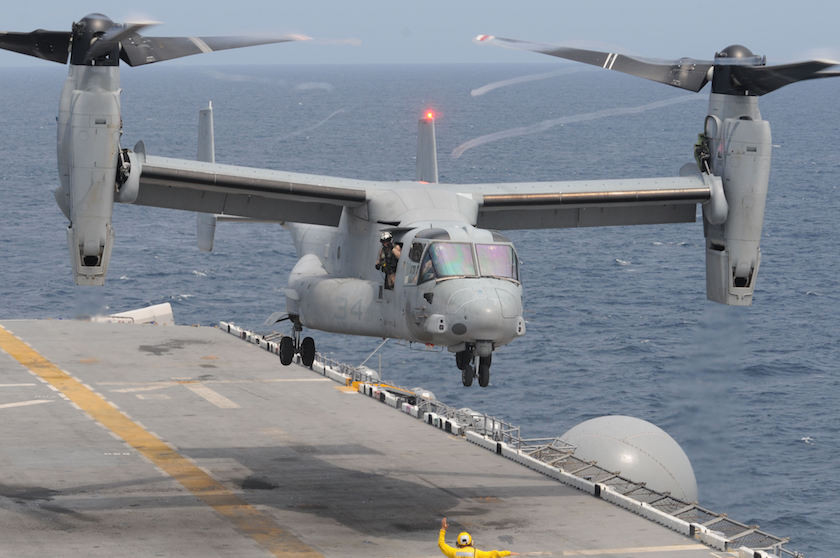MilitaryHelicopter: (28, 19, 824, 373)
